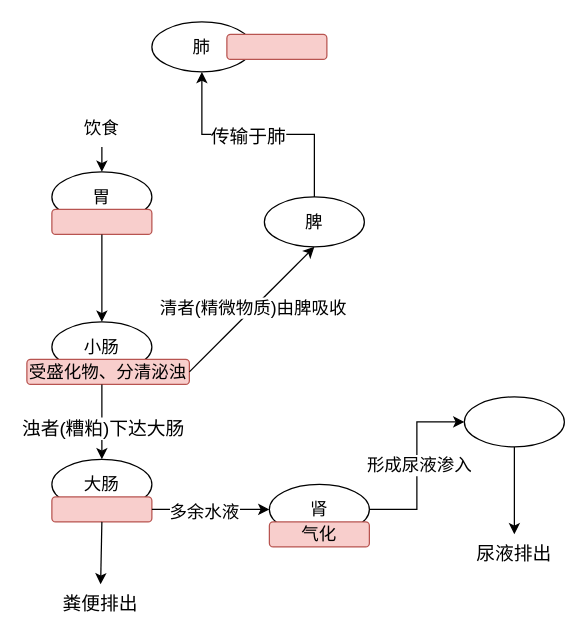
This 586x644 diagram has some shape labels left out. Here are the shapes that lost their labels. From the top down, the centre of each, then its label:
At pixel 276 46: "布散全身".
At pixel 101 221: "受纳腐熟".
At pixel 513 421: "膀胱".
At pixel 101 509: "传导".
